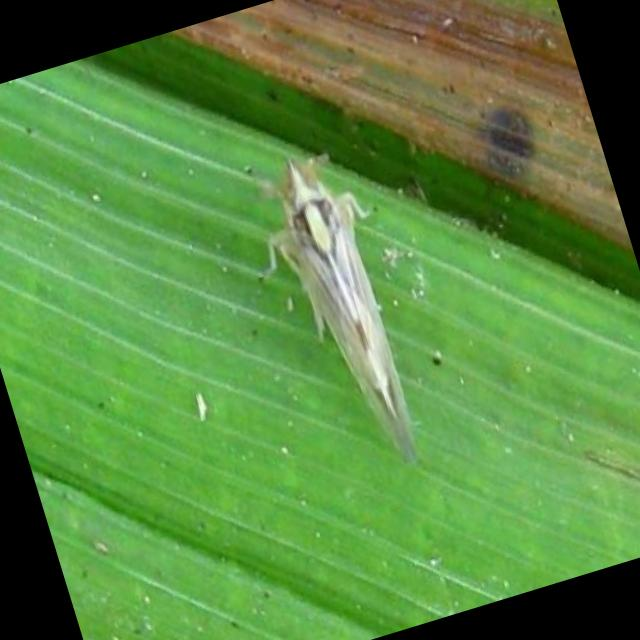brown-planthopper: (266, 144, 431, 476)
